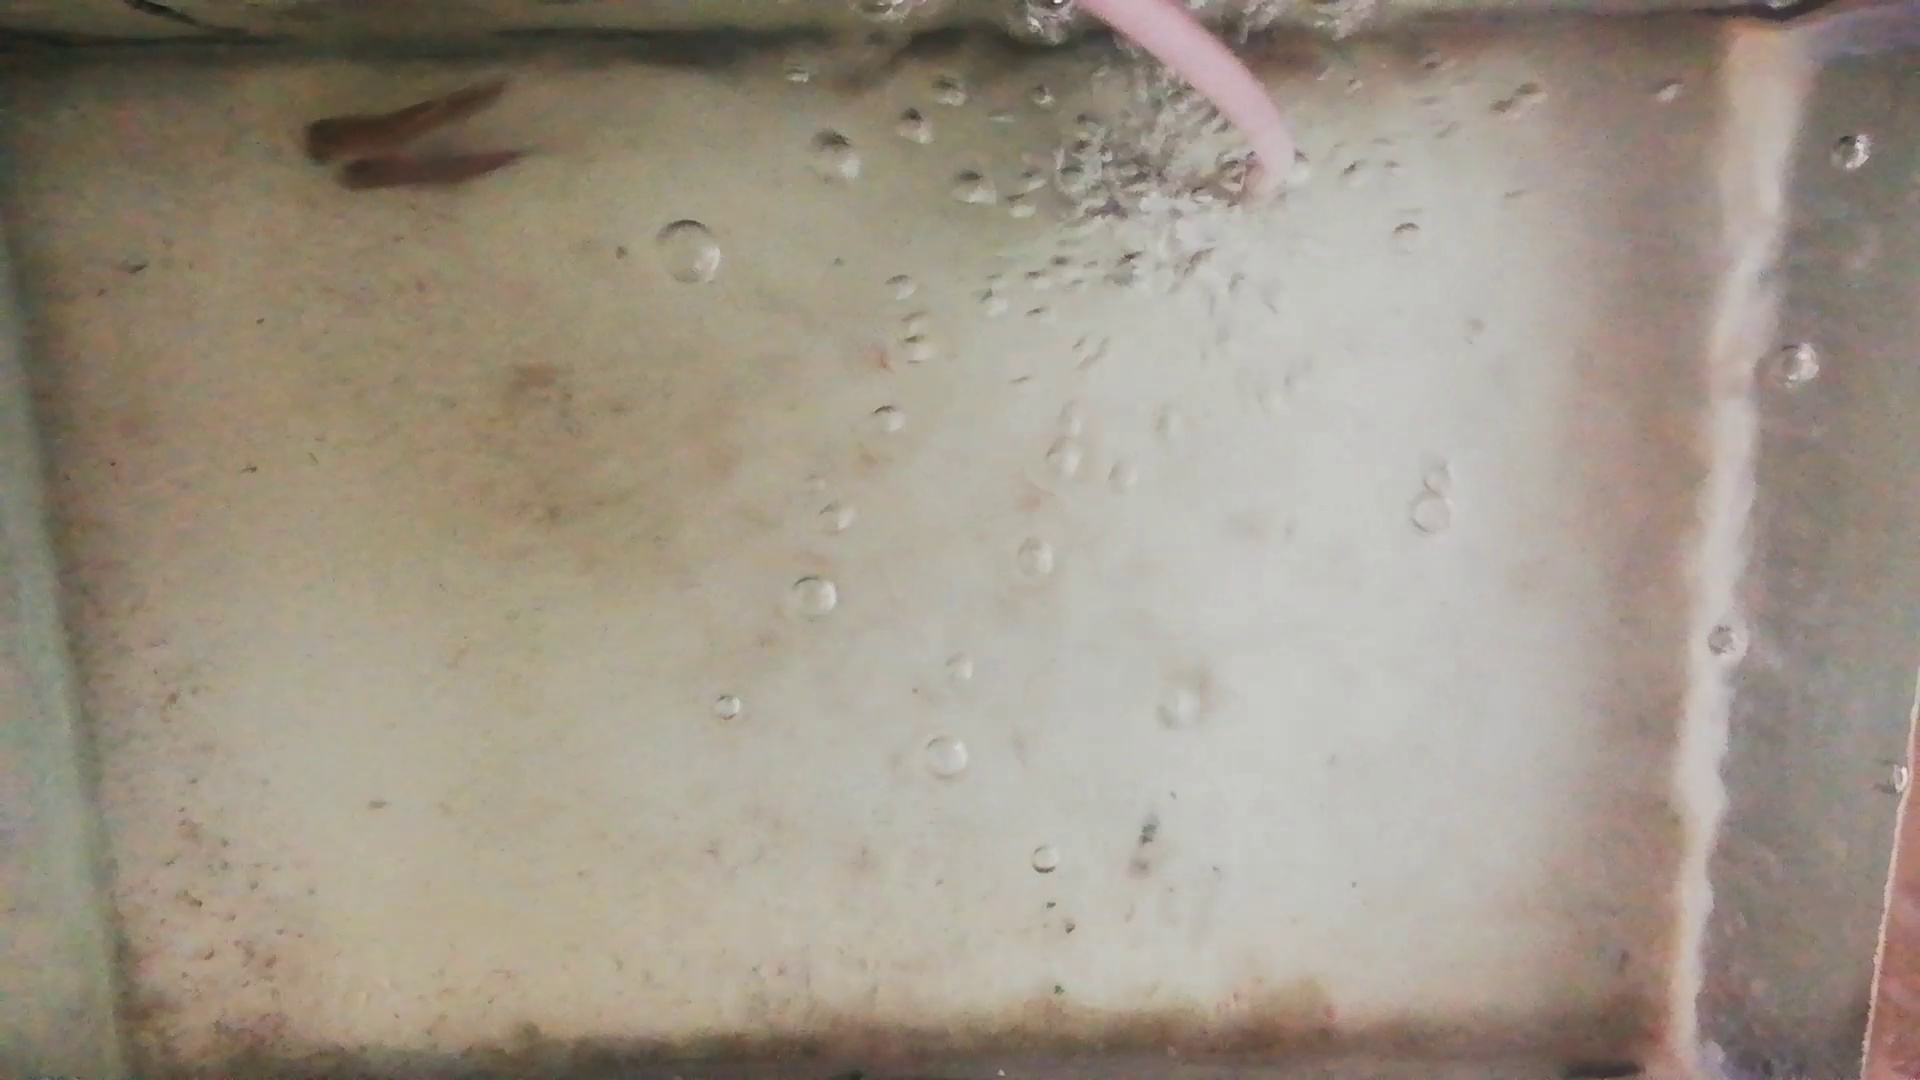fish: (297, 79, 508, 160), (336, 153, 517, 193)
